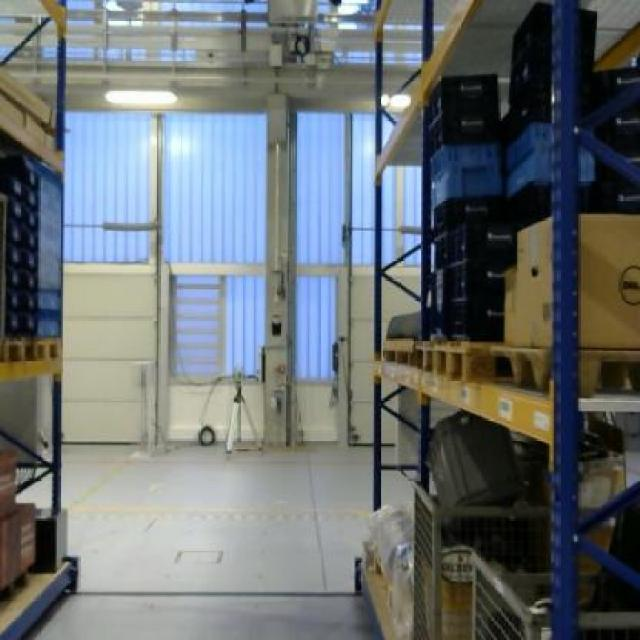box: (513, 214, 639, 348)
